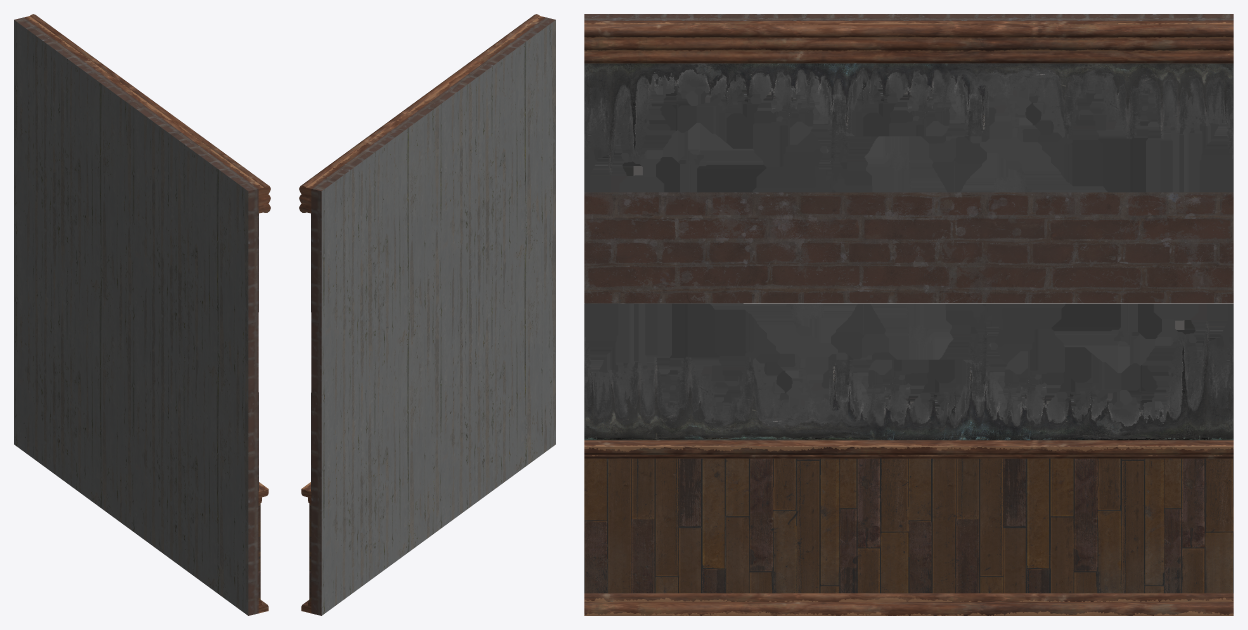
Rendered from Kit_WoodRoofAsbestos.fbx.
3 views of the same model, side by side, from view 1: azimuth 30°, elevation 25°; view 2: azimuth 150°, elevation 25°; view 3: azimuth 270°, elevation 25° (orthographic). The views are drawn at different scales.
Parts seen in each view (by area): view 1: Kit_WoodRoofAsbestos; view 2: Kit_WoodRoofAsbestos; view 3: Kit_WoodRoofAsbestos.
Part boxes in pixels (x1,y1,x2,y2): Kit_WoodRoofAsbestos: (14, 14, 270, 615); Kit_WoodRoofAsbestos: (299, 14, 555, 615); Kit_WoodRoofAsbestos: (584, 14, 1233, 615).
Size of the model in its own units: 8.75 by 158 by 157.
